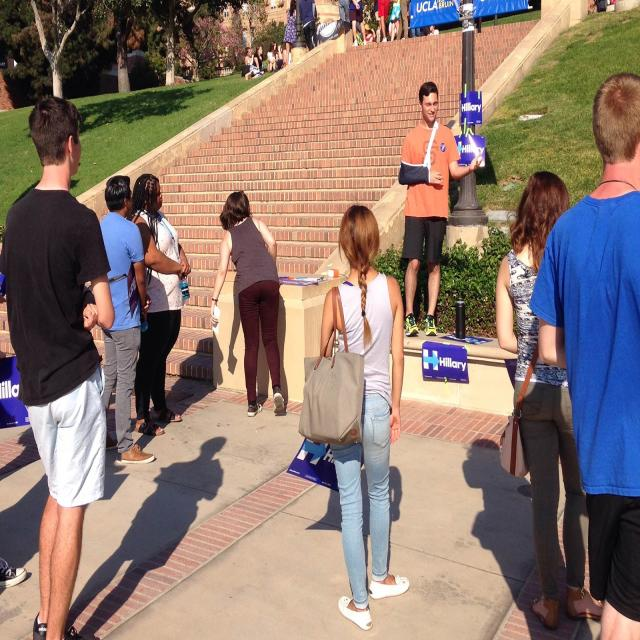body: (522, 68, 640, 640), (0, 95, 116, 640), (492, 166, 606, 625), (296, 199, 415, 636), (60, 423, 232, 640), (456, 432, 600, 640), (395, 76, 487, 337), (126, 171, 192, 436), (210, 189, 286, 417), (303, 427, 405, 596), (98, 173, 156, 464), (125, 303, 225, 425), (0, 224, 22, 599), (336, 0, 444, 47), (254, 38, 292, 70), (297, 0, 318, 51), (282, 0, 297, 66), (244, 43, 265, 81), (244, 44, 264, 76), (266, 40, 278, 73)
